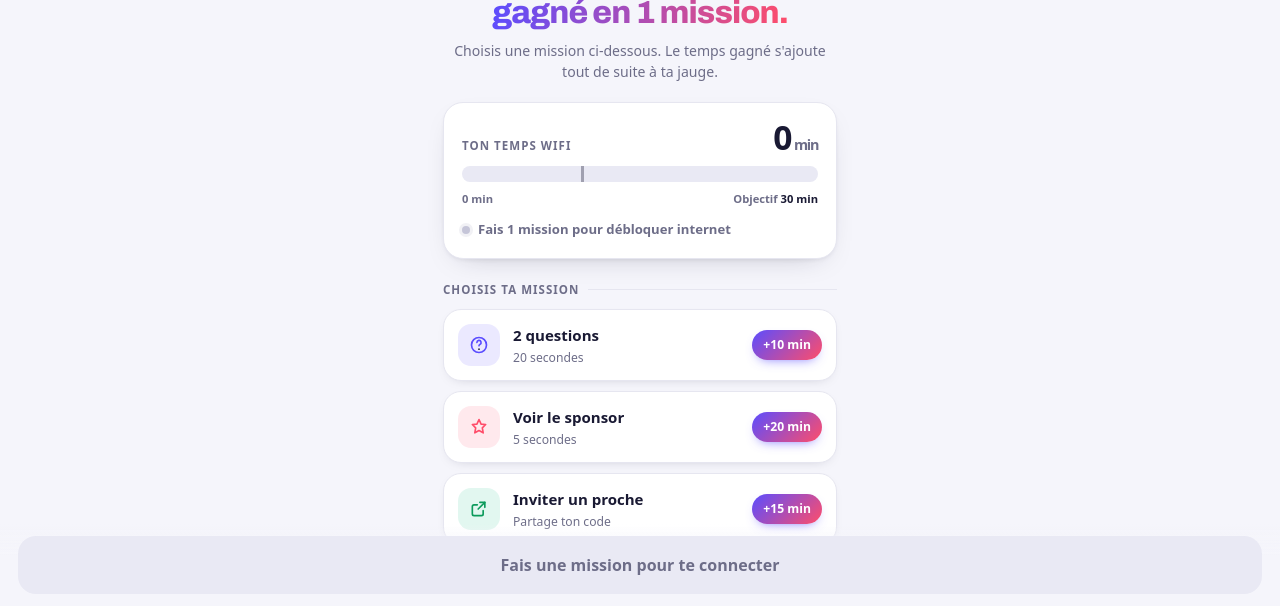
Test: le CTA se débloque après 1 mission et lance la connexion (AuthBox + session = minutes gagnées)
This screenshot has width=1280, height=606.
Expected: the button with test id "ec-go" is disabled, top-left (18, 536), bottom-right (1262, 594)
Step 1. Click the button "2 questions 20 secondes +10 min" → x=479, y=345, box top-left (443, 309), bottom-right (837, 381)
Wait 2 ms
(page scrolled)
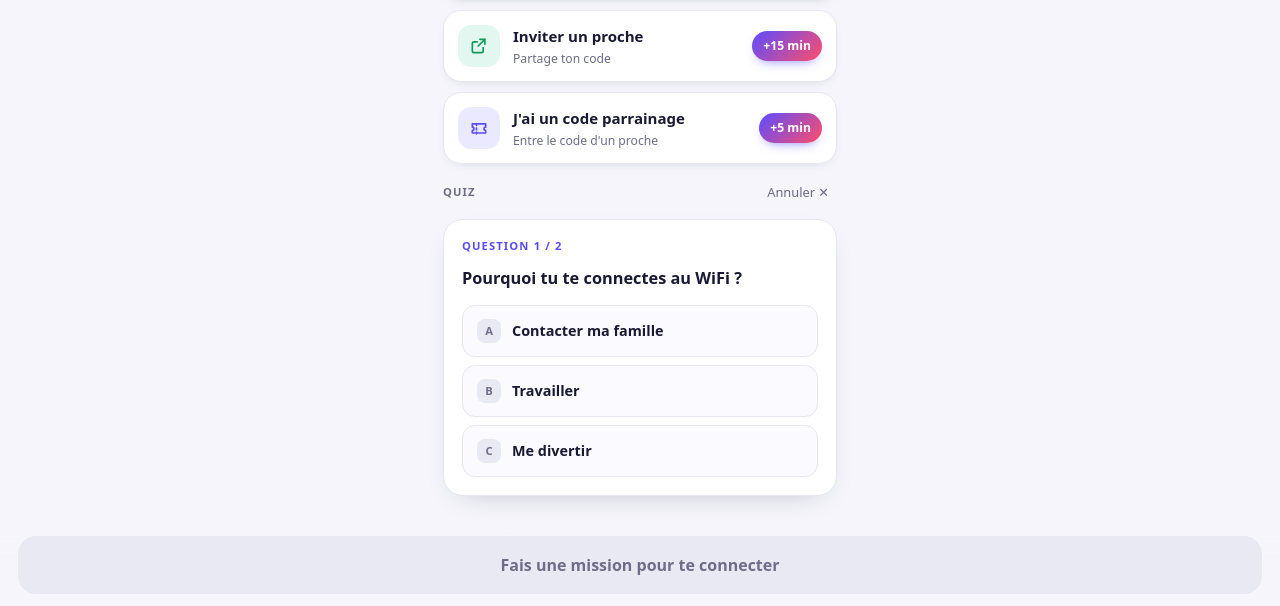
Step 2. Click the button with test id "quiz-option" showing "A Contacter ma famille" → x=640, y=331, box top-left (462, 305), bottom-right (818, 357)
Wait 751 ms
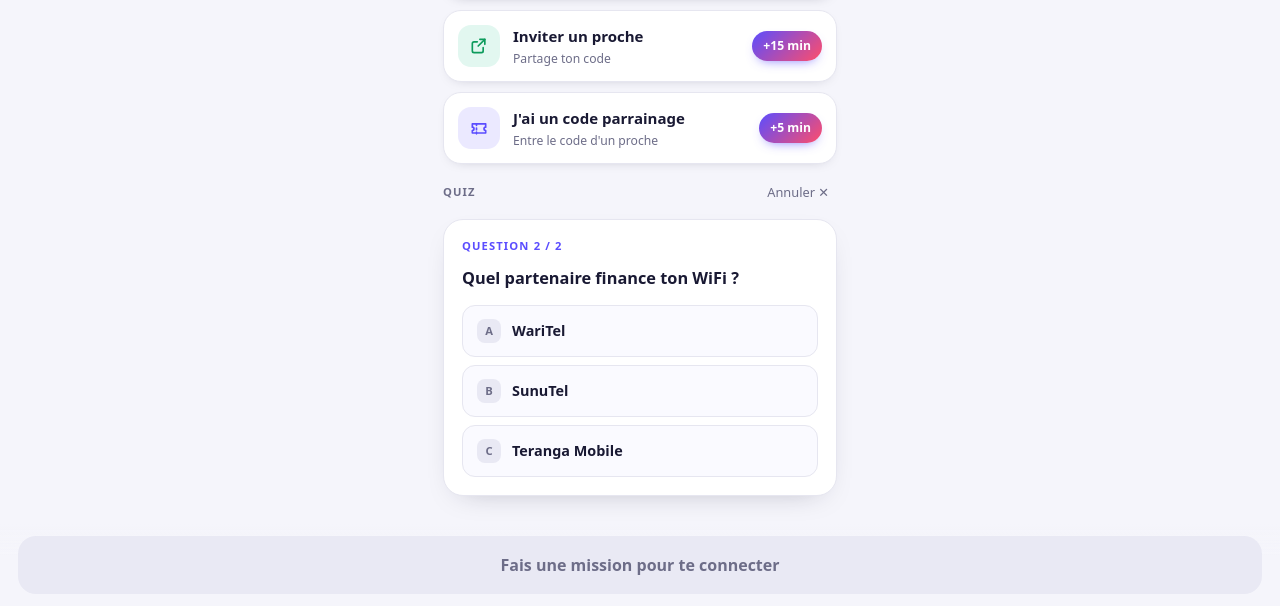
Step 3. Click the button with test id "quiz-option" showing "A WariTel" → x=539, y=331, box top-left (462, 305), bottom-right (818, 357)
Wait 701 ms
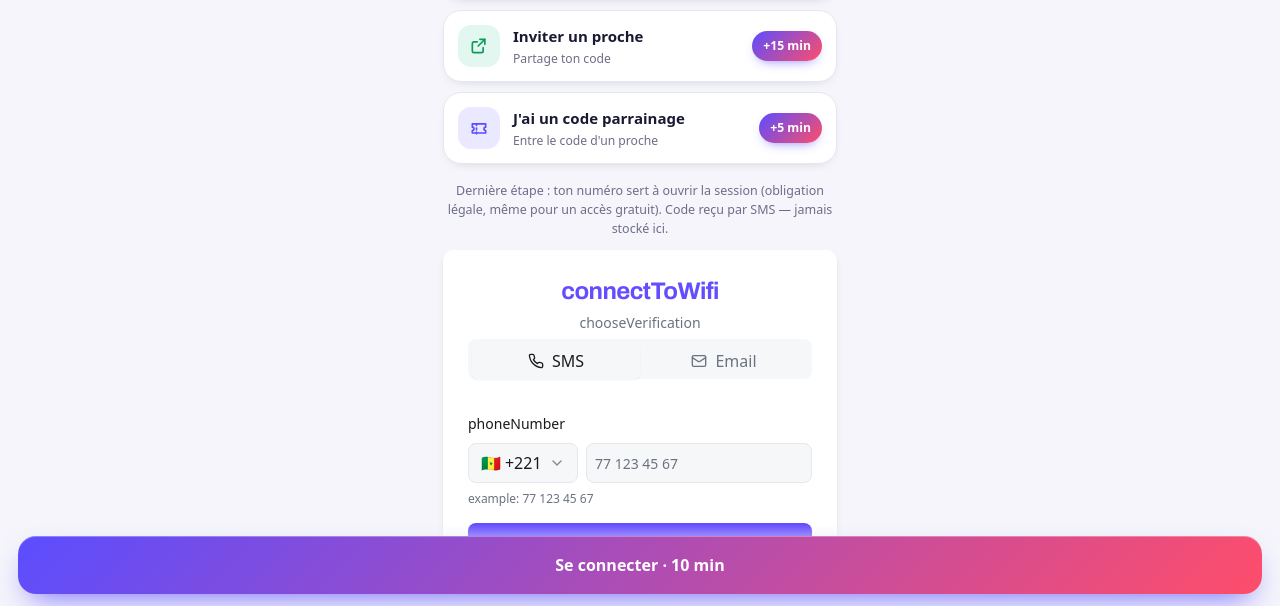
Expected: the button with test id "ec-go" is enabled, top-left (18, 536), bottom-right (1262, 594)
Expected: the button with test id "ec-go" reads "Se connecter · 10 min", top-left (18, 536), bottom-right (1262, 594)
Expected: the element with test id "ec-auth" is shown, top-left (443, 182), bottom-right (837, 588)
